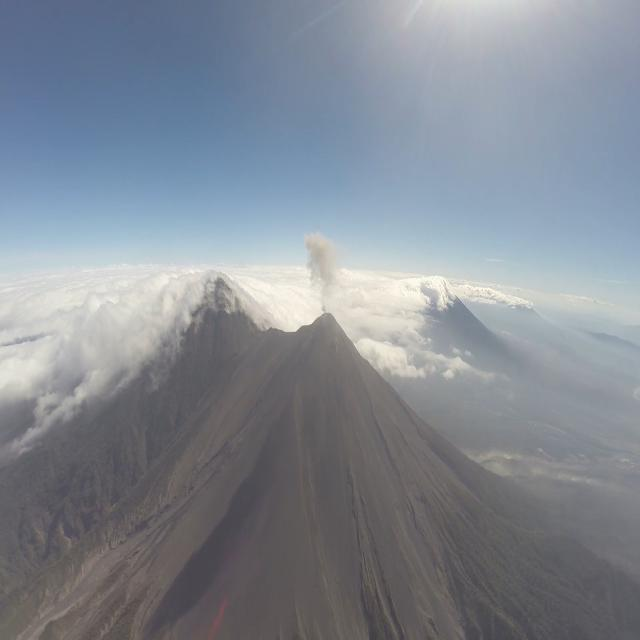Plume: (302, 228, 338, 312)
Summit: (296, 310, 351, 343)
